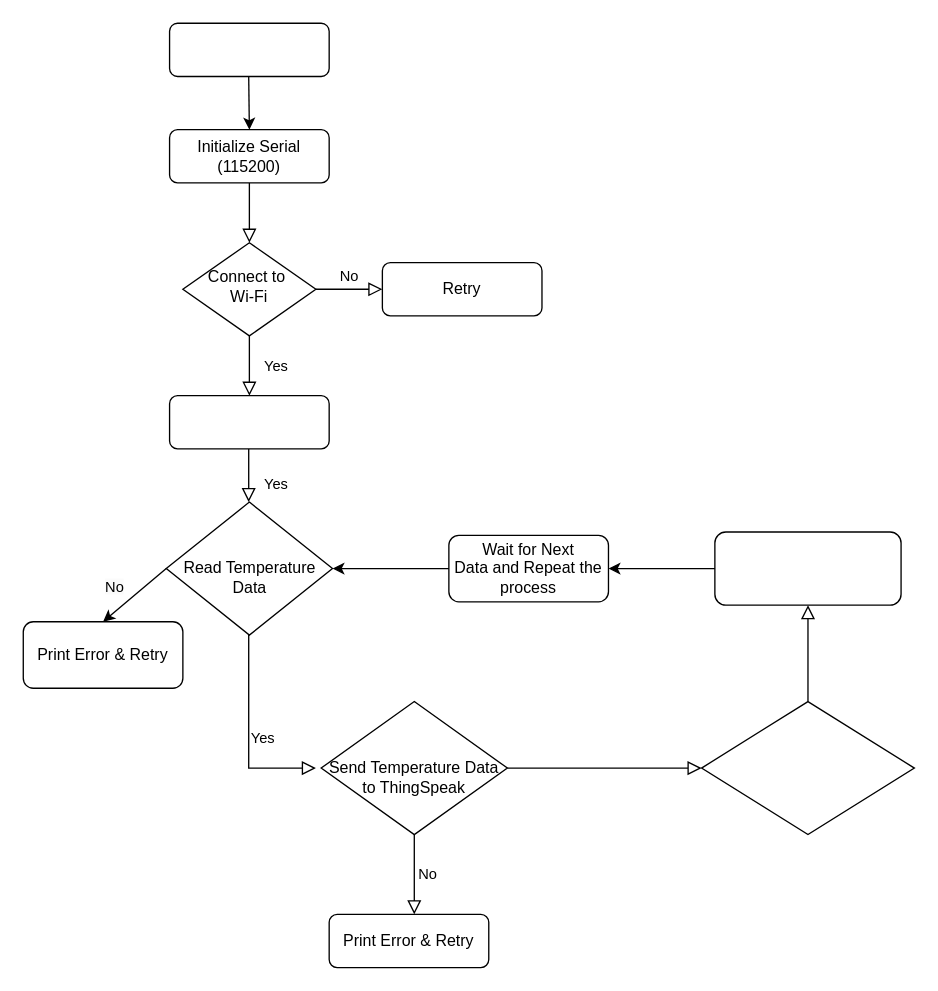
Some shapes in this 938 by 991 pixel diagram are drawn without their labels. Here are the shapes that lost their labels. From the top down, the centre of each, then its label:
the point at 248,49: START
the point at 248,421: Initialize DHT11 Sensor
the point at 807,568: Change Model Color if Temperature > Preset Values
the point at 807,767: Update Live Temperature in AR Model
